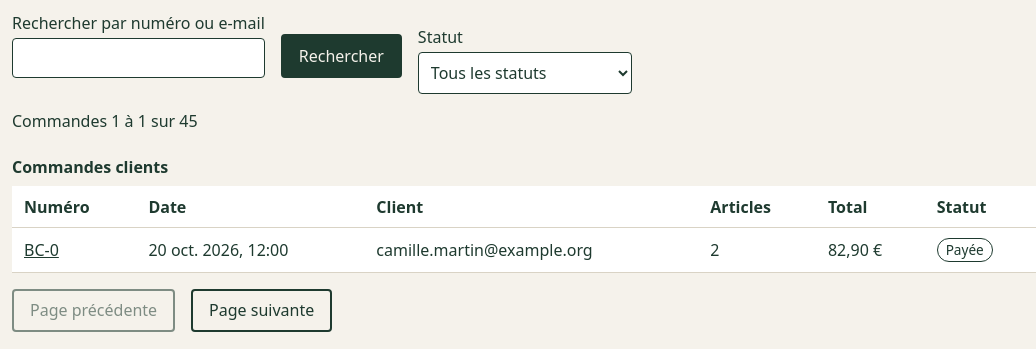
OrderList › pagine : page suivante puis précédente, boutons désactivés aux extrémités
expect the table is shown: met, box [12,148,1035,273]
expect the button "Page précédente" is disabled: met, box [12,289,175,332]
What coordinates should you click on to do the following:
click the button "Page suivante"
I would click on:
 (262, 310)
Its box is [191,289,332,332].
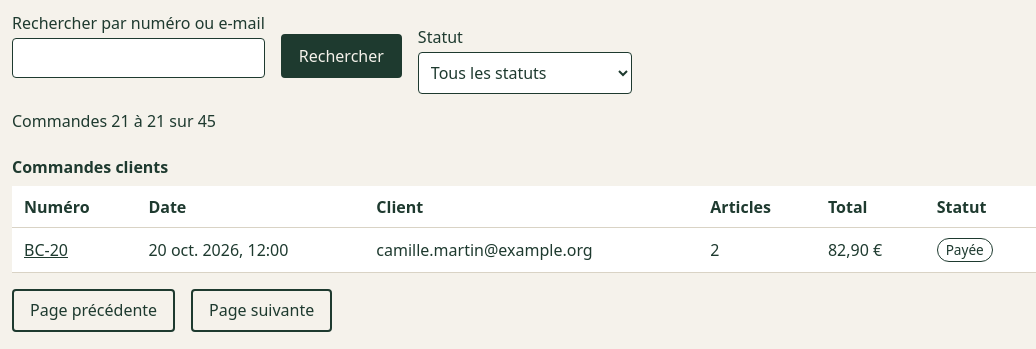
expect the link "BC-20" is shown: met, box [24,239,68,261]
What coordinates should you click on to do the following:
click the button "Page suivante"
I would click on:
 (262, 310)
Its box is [191,289,332,332].
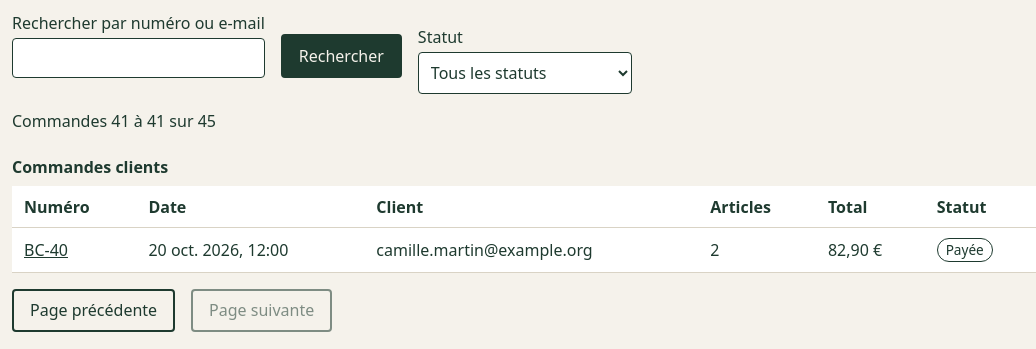
expect the link "BC-40" is shown: met, box [24,239,68,261]
expect the button "Page suivante" is disabled: met, box [191,289,332,332]
What coordinates should you click on to do the following:
click the button "Page précédente"
I would click on:
 (94, 310)
Its box is [12,289,175,332].
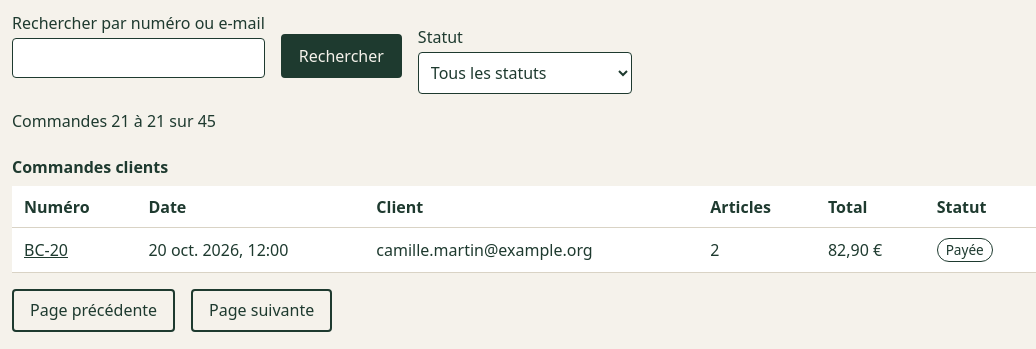
expect the link "BC-20" is shown: met, box [24,239,68,261]
